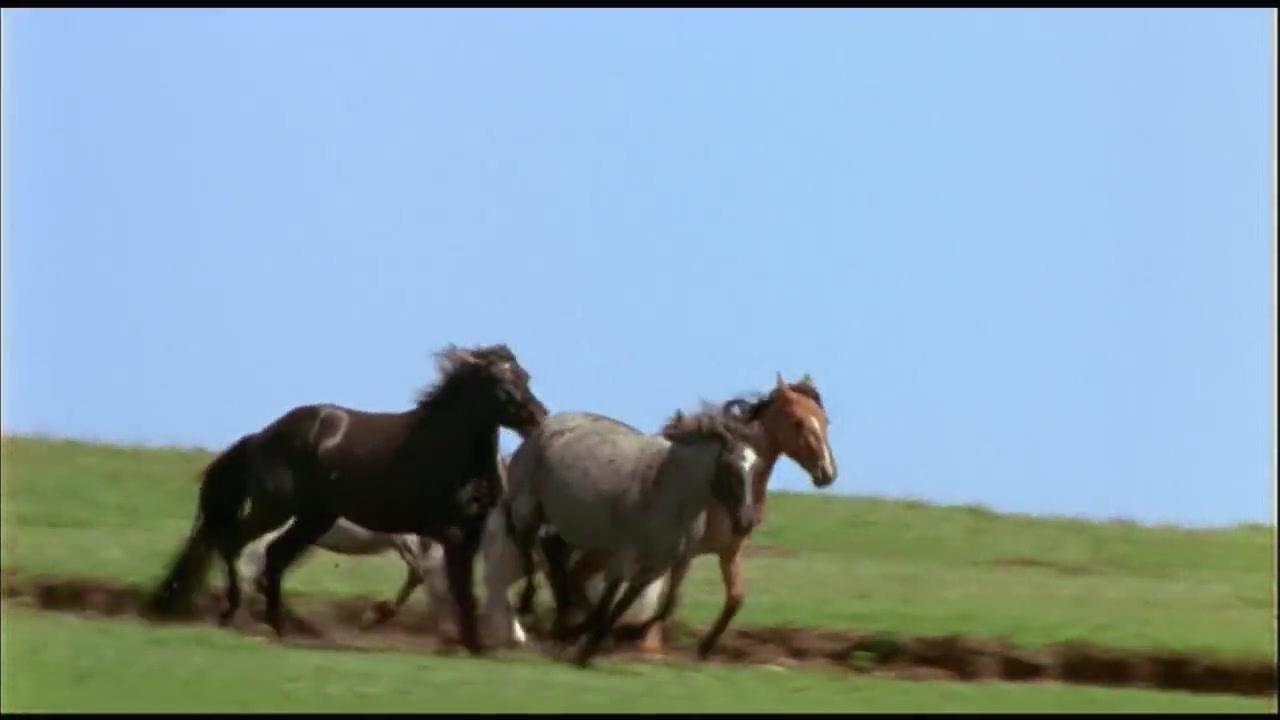horse: (139, 342, 550, 658)
